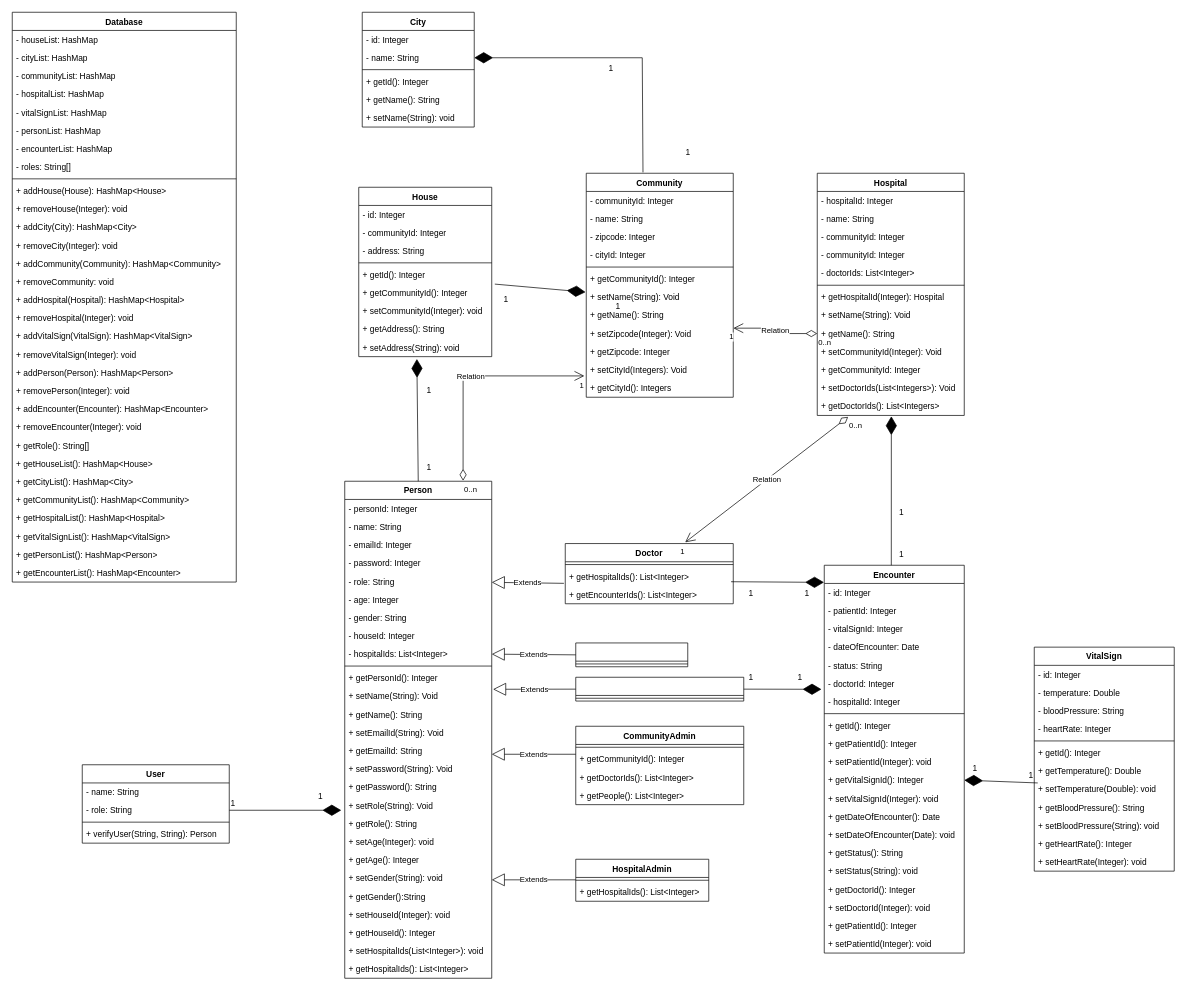
Some shapes in this 1187 by 993 pixel diagram are drawn without their labels. The centre of each missing label's shape, as x and y in pixels:
"Patient" goes at [659,689].
"SystemAdmin" goes at [631,654].
